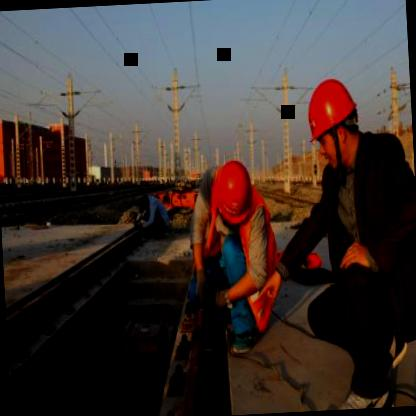helmet: (300, 73, 362, 173), (206, 155, 258, 240)
